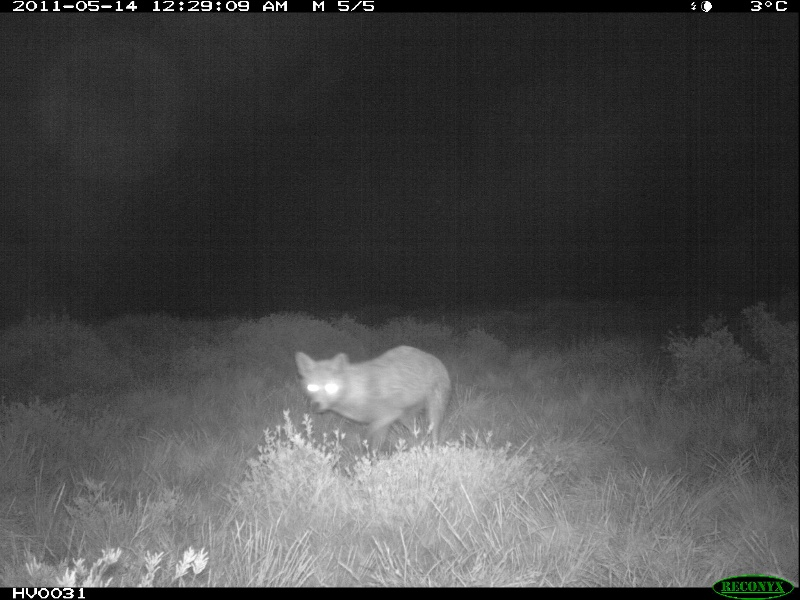fox: (290, 343, 454, 455)
